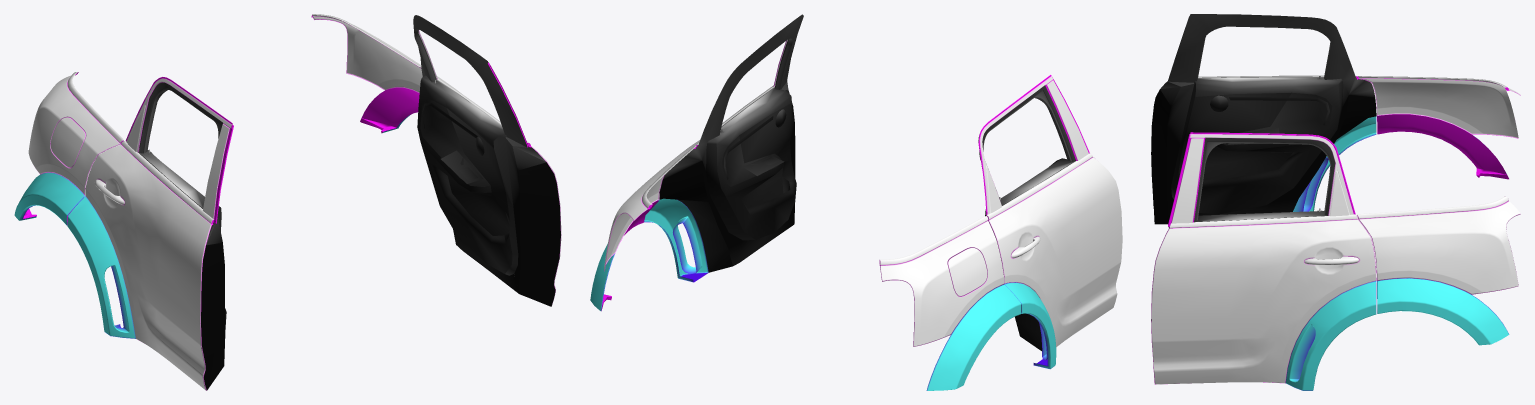
Rendered from Car_Mini_CountrymanJCW_2017_FendersR_SetD_AltB.fbx.
The picture shows the model from 3 angles, left to right: view 1: azimuth 30°, elevation 25°; view 2: azimuth 150°, elevation 25°; view 3: azimuth 270°, elevation 25°; orthographic projection. The views are drawn at different scales.
Visible parts, largest first — view 1: FendersR 6; view 2: FendersR 6; view 3: FendersR 6.
Boxes of the visible parts, x1,y1,x2,y2 form: FendersR 6: (14,14,561,390); FendersR 6: (590,14,1122,390); FendersR 6: (1151,14,1520,390).
Size of the model in its own units: 1.93 by 1.14 by 1.66.
